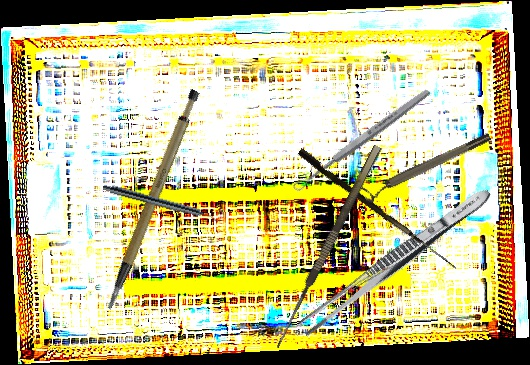Dressing Forceps: (295, 182, 496, 340)
Fixation Ring: (360, 130, 495, 205)
Handpiece: (101, 182, 220, 225)
Hook Surgical: (272, 144, 393, 355), (295, 148, 462, 269)
Scalpel Handle: (71, 86, 229, 311)
Surgical Spoon: (291, 86, 432, 194)
